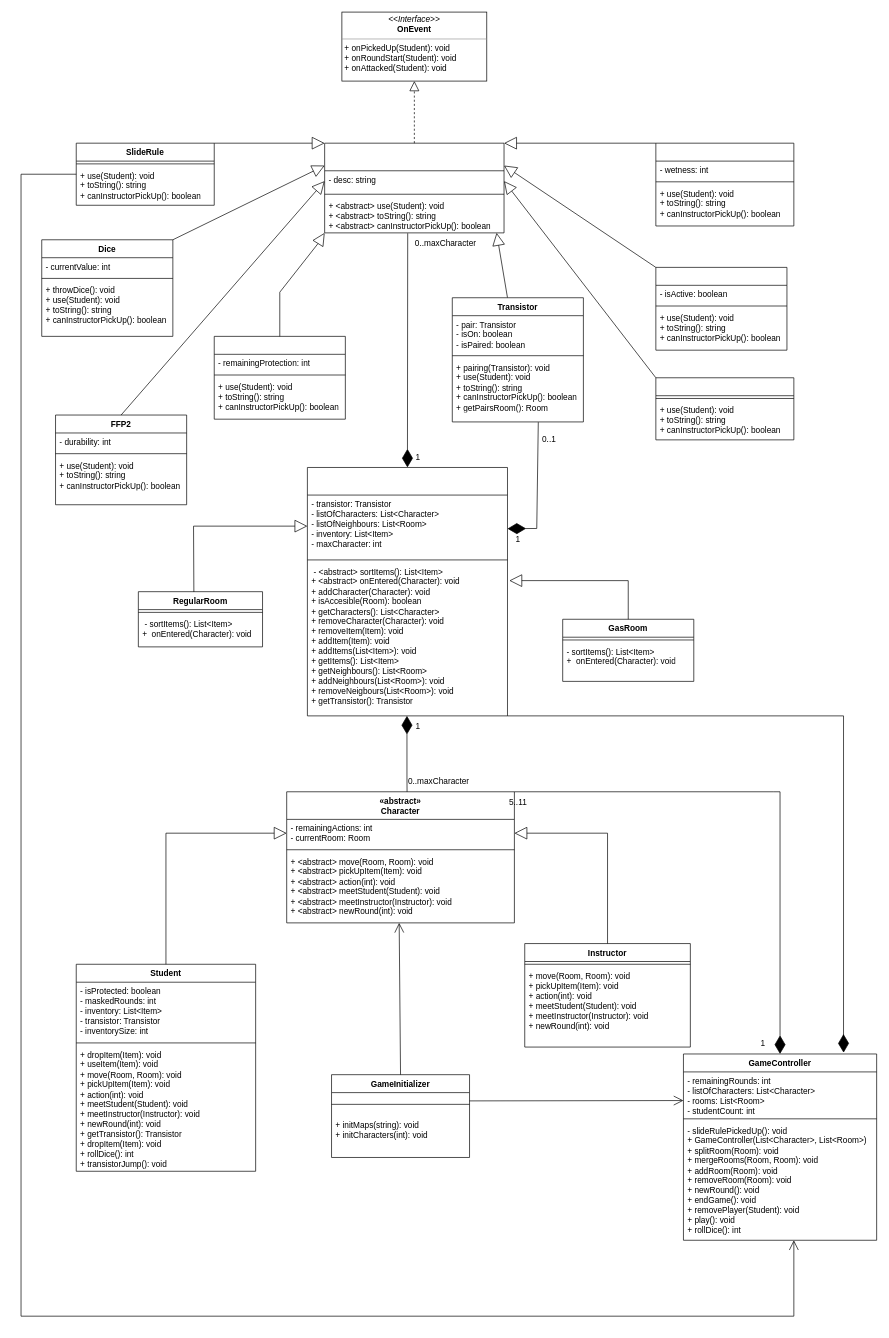
This 889x1338 diagram has some shape labels left out. Here are the shapes that lost their labels. From the top down, the box of each, then its label:
(324, 142, 504, 233): «abstract» Item
(655, 142, 794, 226): WetRag
(655, 267, 787, 350): GlassOfBeer
(214, 336, 345, 419): TVSZ
(655, 377, 794, 440): Camambert
(307, 467, 507, 716): «abstract» Room
